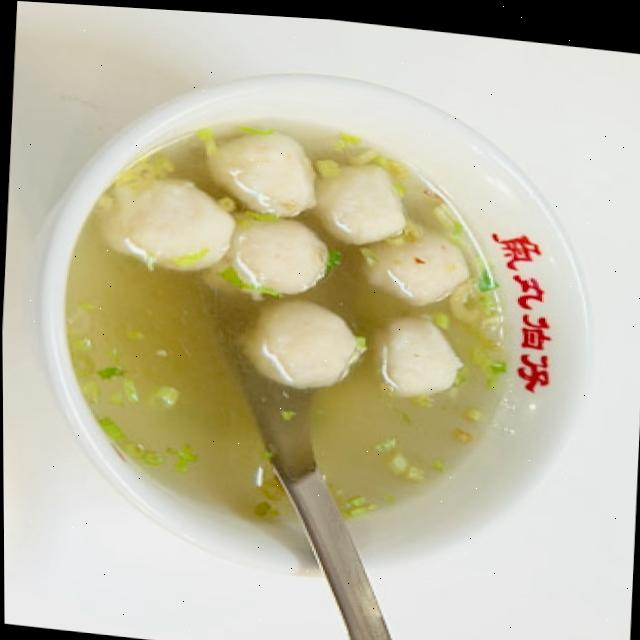熟制海鲜: (65, 95, 525, 439)
